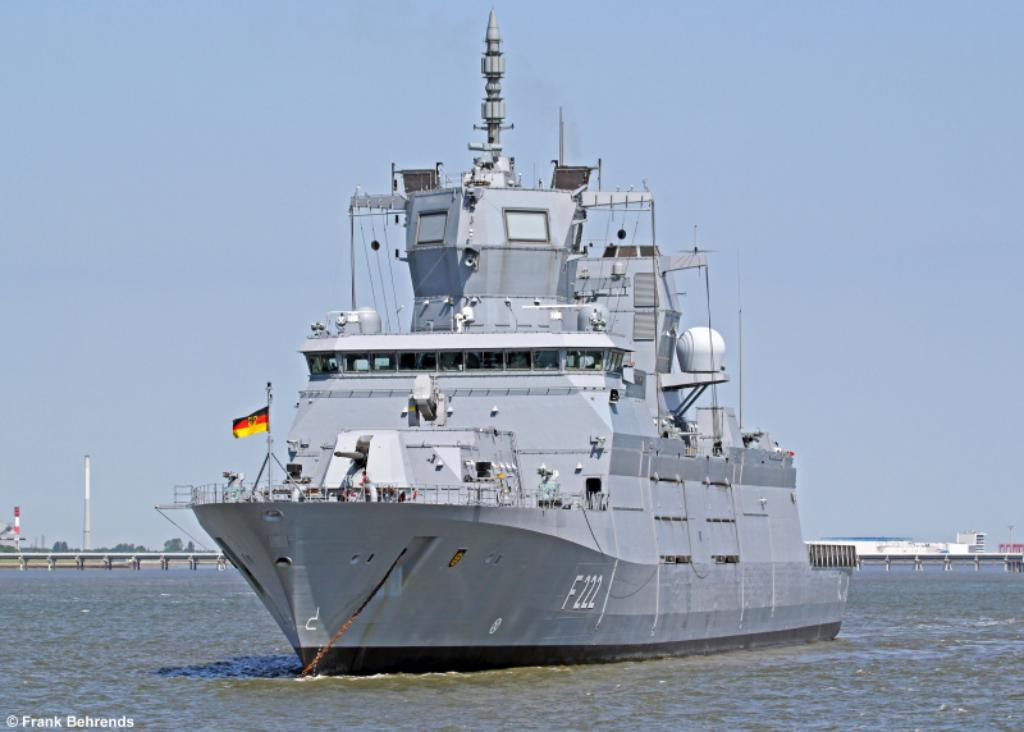Warship: (159, 8, 869, 678)
